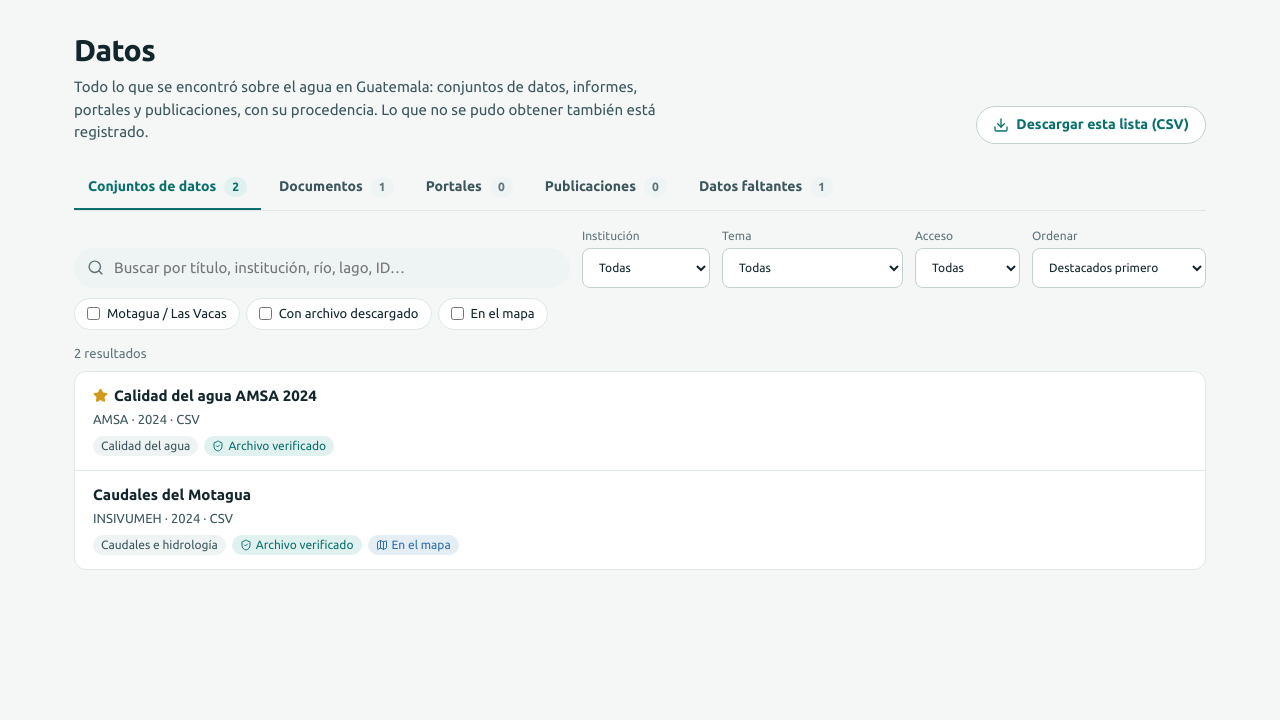
vista de datos › busca por título y por ID anterior (alias)
Step 1. Type "GTW-069" into the search field with placeholder "Buscar por título, institución, río, lago, ID…" → [334, 268], box 112,248 -> 557,286
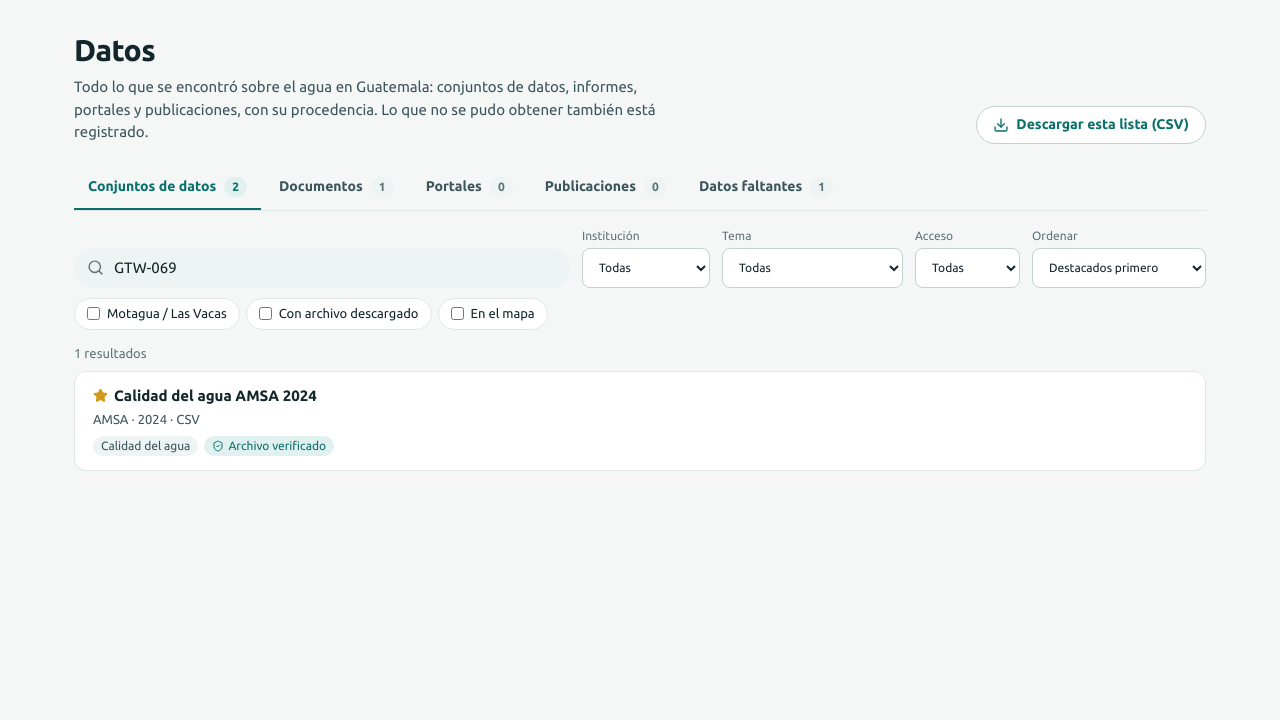
Expected: the text "Calidad del agua AMSA 2024" is shown, 93,387 -> 317,404
Expected: the button "Caudales del Motagua" is gone
Step 2. Replace the text in the search field with placeholder "Buscar por título, institución, río, lago, ID…" with "nada que coincida" → [334, 268], box 112,248 -> 557,286
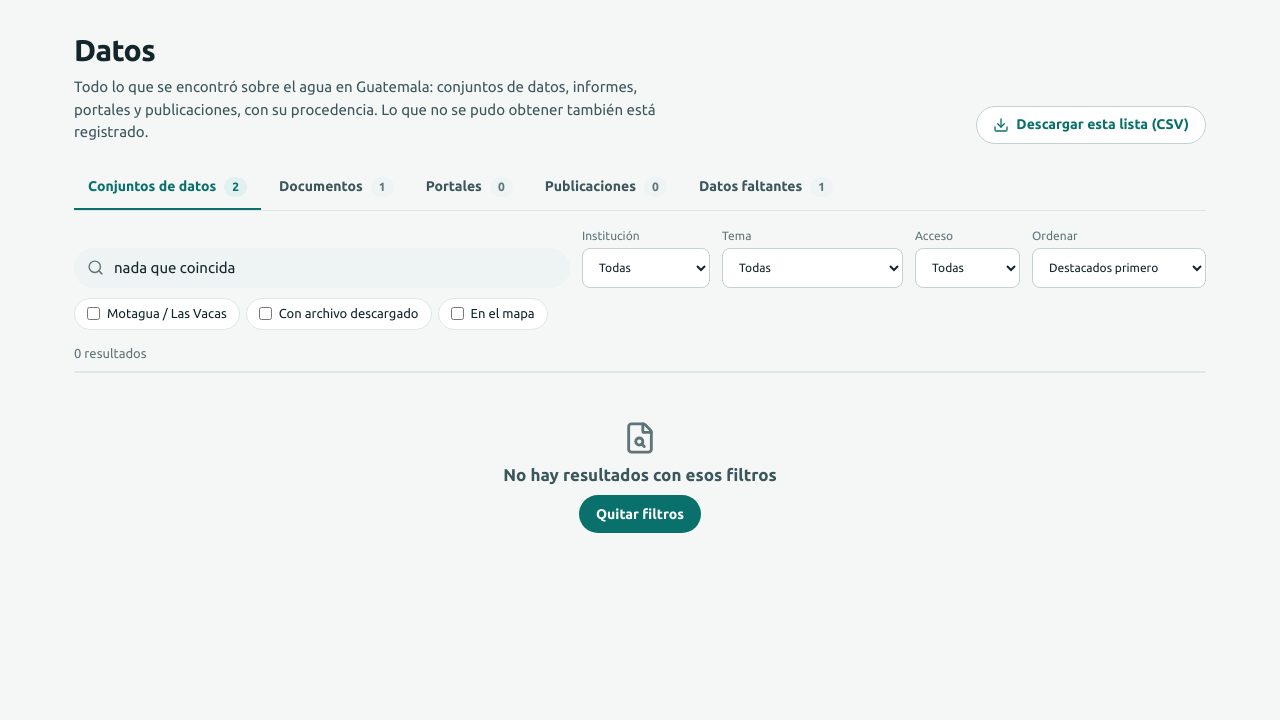
Expected: the heading "No hay resultados con esos filtros" is shown, 503,465 -> 777,485
